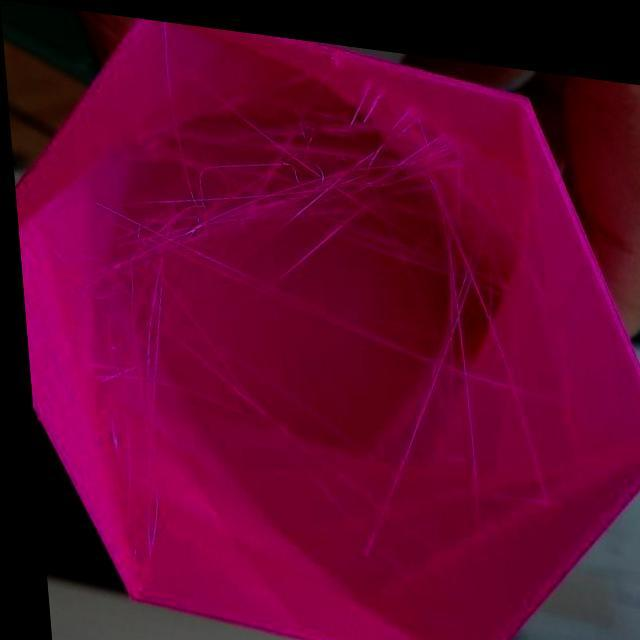stringing: (92, 81, 444, 284), (401, 176, 555, 531), (345, 340, 448, 560), (83, 248, 166, 372)
